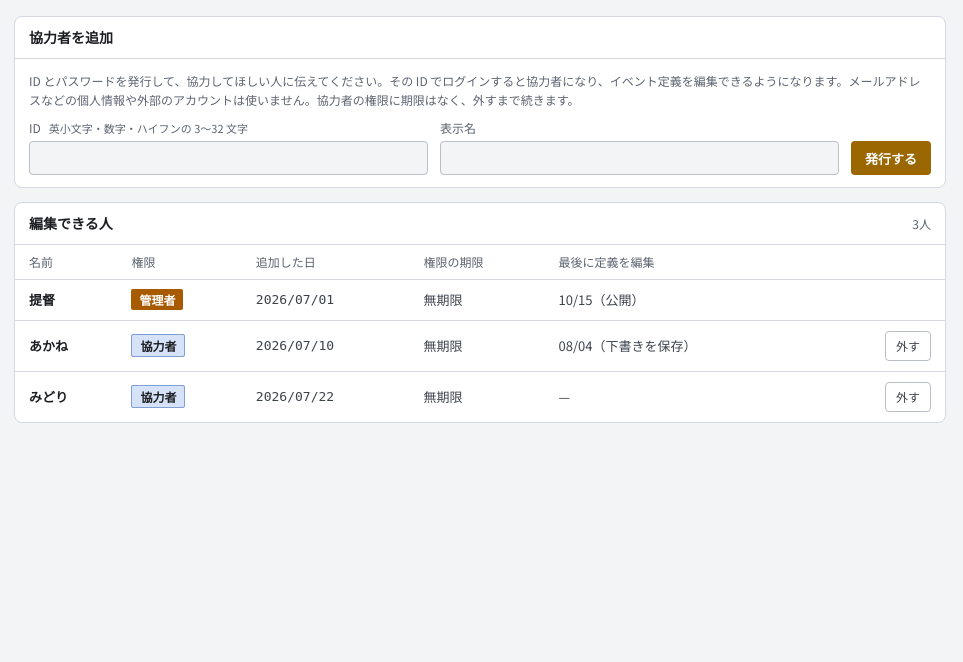
協力者画面の本文（CollaboratorsScreen） › 協力者を追加（ID とパスワードの発行） › 発行できたら、ID とパスワード、「パスワードはこの画面を閉じると二度と表示できません」を出し、表に加える
Expected: the heading "協力者を追加" is shown, [15,17,945,59]
Expected: the button "発行する" is enabled, [851,141,931,175]
Type "hanako-2" into the field labelled "ID".
click(228, 158); type("hanako-2")  # box [29,141,428,175]
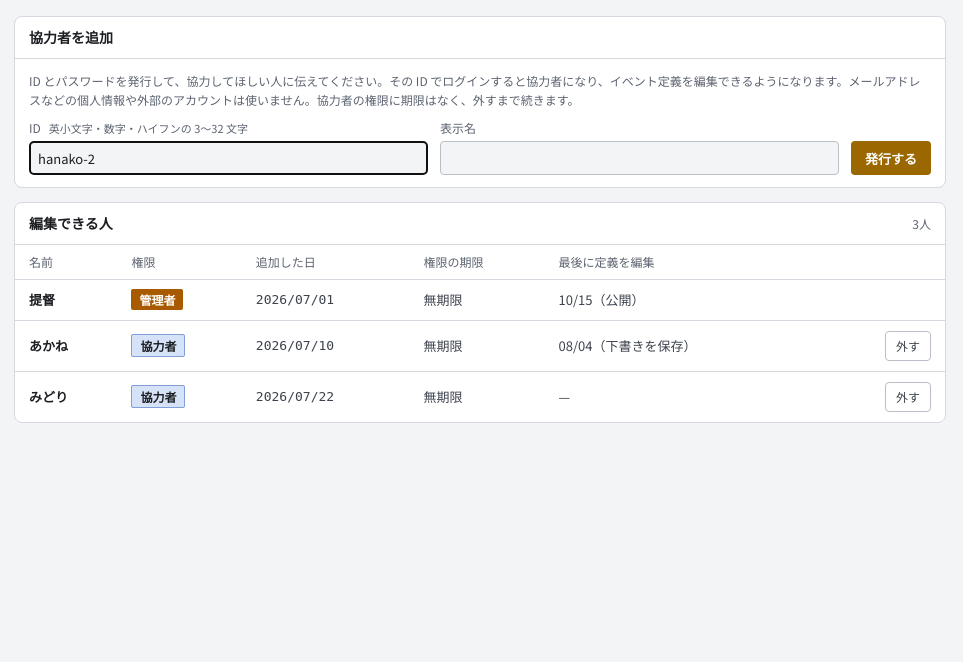
Type "花子" into the field labelled "表示名".
click(640, 158); type("花子")  # box [440,141,839,175]
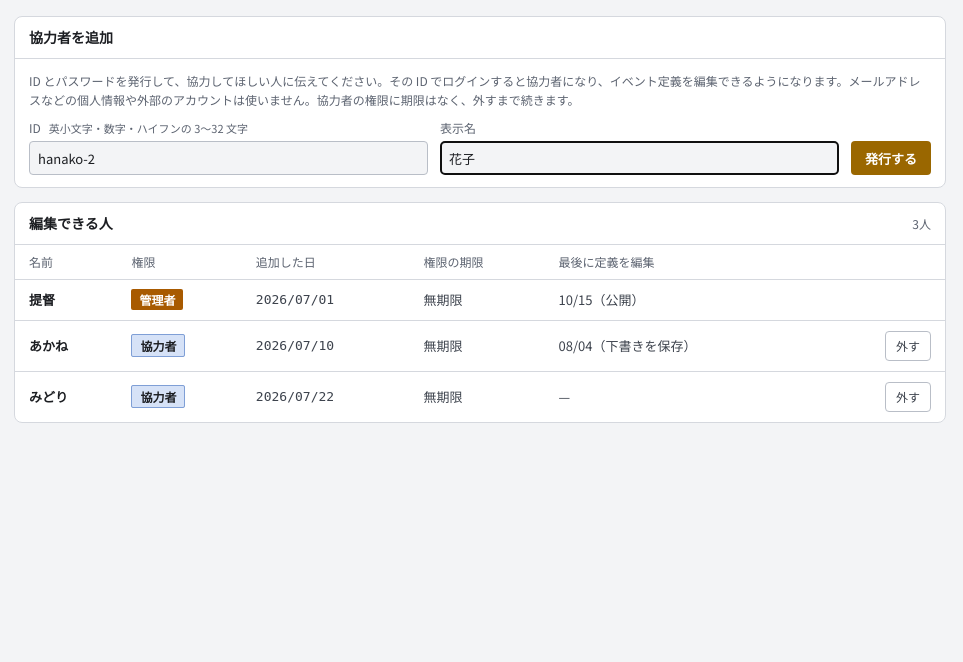
Click the button "発行する".
click(891, 158)  # box [851,141,931,175]
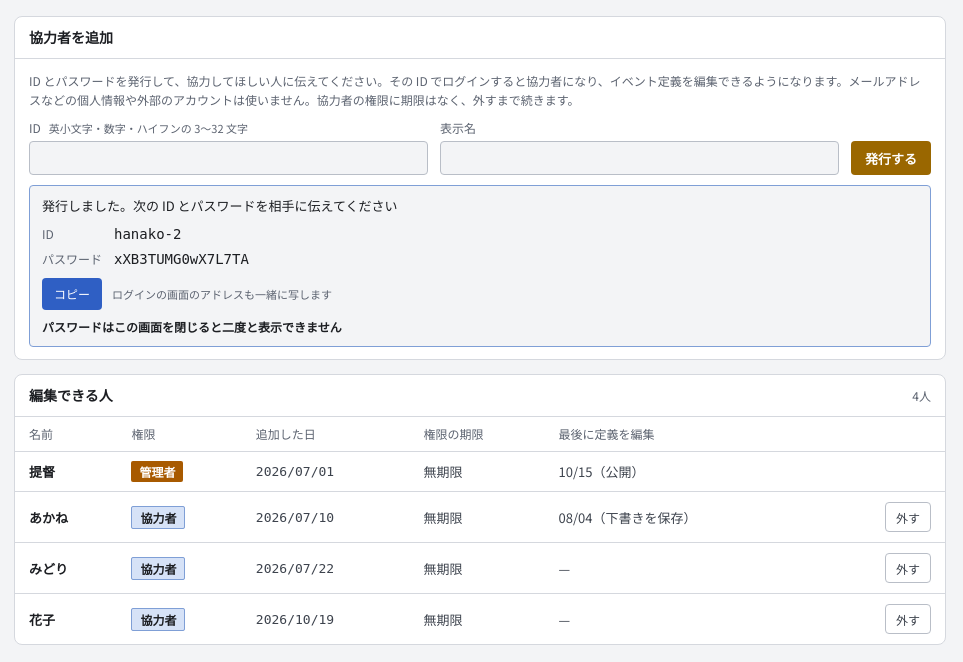
Expected: the text "パスワードはこの画面を閉じると二度と表示できません" is shown, [42,318,342,335]
Expected: the text "協力者" next to "花子" is shown, [140,611,176,628]
Expected: the text "無期限" in the row of "花子" is shown, [423,610,462,629]
